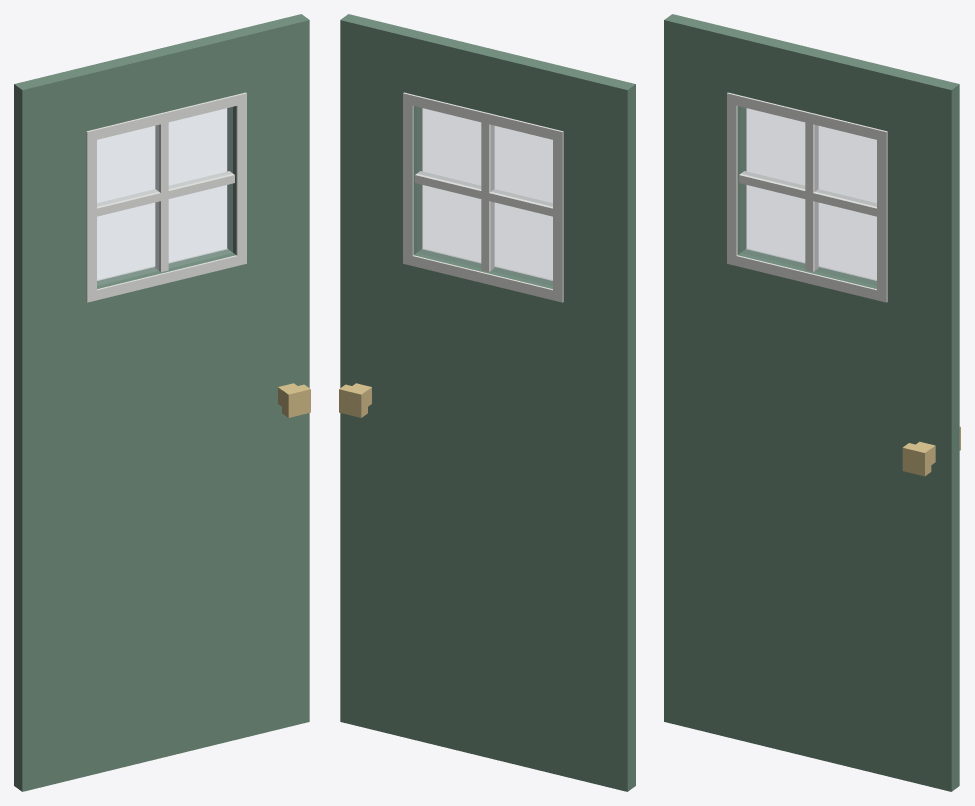
The model's file is mlo_door_cottage_green.glb.
3 renders of one model, left to right at view 1: azimuth 30°, elevation 25°; view 2: azimuth 150°, elevation 25°; view 3: azimuth 330°, elevation 25°, orthographic.
Parts seen in each view (by area): view 1: Door_Cottage_Green; view 2: Door_Cottage_Green; view 3: Door_Cottage_Green.
Boxes of the visible parts, left/top/right/bottom form: Door_Cottage_Green: left=14, top=14, right=310, bottom=791; Door_Cottage_Green: left=339, top=14, right=635, bottom=791; Door_Cottage_Green: left=664, top=14, right=960, bottom=791.
Size of the model in its own units: 0.9 by 2.1 by 0.195.
